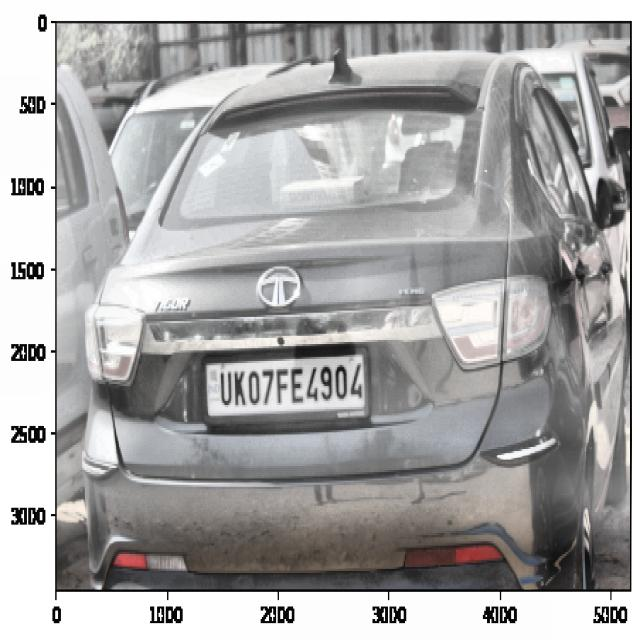license_plate: (216, 360, 367, 413)
